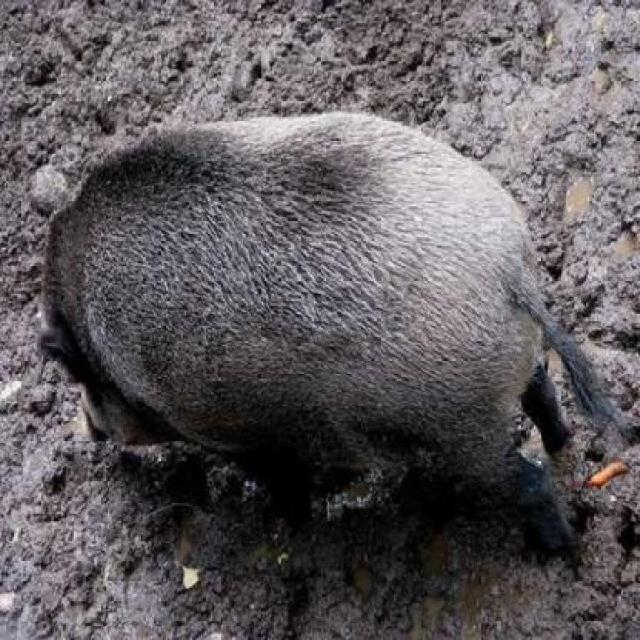pig: (14, 63, 599, 519)
